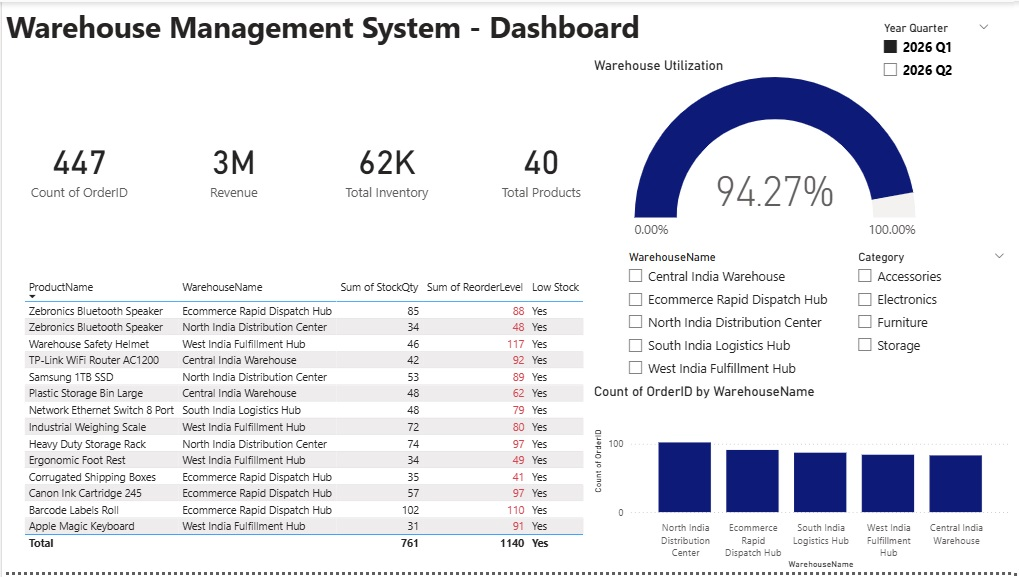

Layout of this report page (visuals, bound fields, positions):
{"tool":"powerbi","page":{"name":"Page 3","canvas":[1280,720],"ordinal":2},"visuals":[{"type":"textbox","box":[0,0,1164.1,69.9],"z":0},{"type":"tableEx","fields":{"Values":["Products.ProductName","Warehouses.WarehouseName","Sum(Inventory.StockQty)","Sum(Inventory.ReorderLevel)","Inventory.Low Stock"]},"box":[22.7,345,720.2,358.2],"z":1000},{"type":"card","fields":{"Values":["Count(OrderDetails.OrderID)"]},"box":[0,143.6,194.6,128.5],"z":2000},{"type":"card","fields":{"Values":["Inventory.Revenue"]},"box":[194.6,143.6,194.6,128.5],"z":3000},{"type":"card","fields":{"Values":["Inventory.Total Inventory"]},"box":[389.3,143.6,194.6,128.5],"z":4000},{"type":"card","fields":{"Values":["Inventory.Total Products"]},"box":[583.9,143.6,194.6,128.5],"z":5000},{"type":"gauge","title":"Warehouse Utilization ","fields":{"Y":["Inventory.Warehouse Utilization"],"MaxValue":["Sum(Warehouses.Capacity)"]},"box":[742.7,69.9,466.8,238.1],"z":6000},{"type":"slicer","fields":{"Values":["Warehouses.WarehouseName"]},"box":[779,308.9,272.9,172.5],"z":7000},{"type":"slicer","fields":{"Values":["Products.Category"]},"box":[1069,308.9,210.4,151.6],"z":8000},{"type":"clusteredColumnChart","fields":{"Category":["Warehouses.WarehouseName"],"Y":["CountNonNull(Orders.OrderID)"]},"box":[743,481.4,536.4,238.8],"z":9000},{"type":"slicer","fields":{"Values":["Orders.Year Quarter"]},"box":[1102,18.9,158.5,86.8],"z":10000}]}

Visuals, with their boxes in screenshot pixels (x1, y1, x2, y2), scaled from the page's 1280x720 canvas onto the 1019x577 screenshot:
textbox: bbox(0, 0, 927, 56)
tableEx - Products.ProductName x Warehouses.WarehouseName: bbox(18, 276, 591, 564)
card - Count(OrderDetails.OrderID): bbox(0, 115, 155, 218)
card - Inventory.Revenue: bbox(155, 115, 310, 218)
card - Inventory.Total Inventory: bbox(310, 115, 465, 218)
card - Inventory.Total Products: bbox(465, 115, 620, 218)
"Warehouse Utilization " gauge: bbox(591, 56, 963, 247)
slicer - Warehouses.WarehouseName: bbox(620, 248, 837, 386)
slicer - Products.Category: bbox(851, 248, 1018, 369)
clusteredColumnChart - Warehouses.WarehouseName x CountNonNull(Orders.OrderID): bbox(591, 386, 1018, 576)
slicer - Orders.Year Quarter: bbox(877, 15, 1003, 85)
